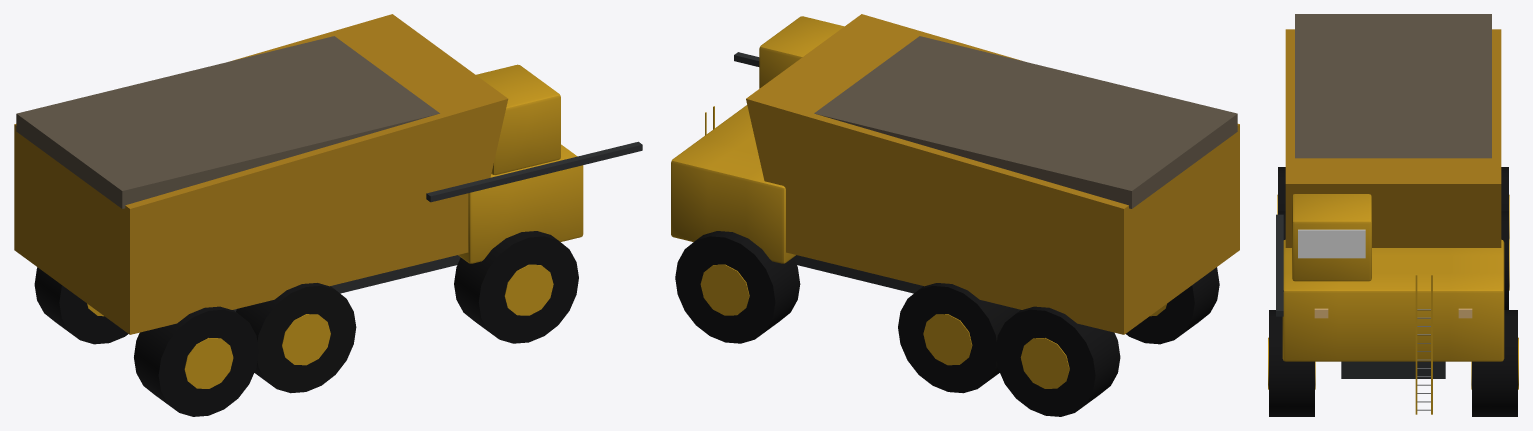
File: ore-hauler.glb
3 views of the same model, side by side, from view 1: azimuth 30°, elevation 25°; view 2: azimuth 150°, elevation 25°; view 3: azimuth 270°, elevation 25° (orthographic). The views are drawn at different scales.
Visible parts, largest first — view 1: Piece_lod0; view 2: Piece_lod0; view 3: Piece_lod0.
Boxes of the visible parts, x1,y1,x2,y2 form: Piece_lod0: [14, 14, 642, 416]; Piece_lod0: [671, 14, 1239, 416]; Piece_lod0: [1268, 14, 1518, 416].
Size of what is drawn, in the model's own units: 17.8 by 8 by 8.15.
